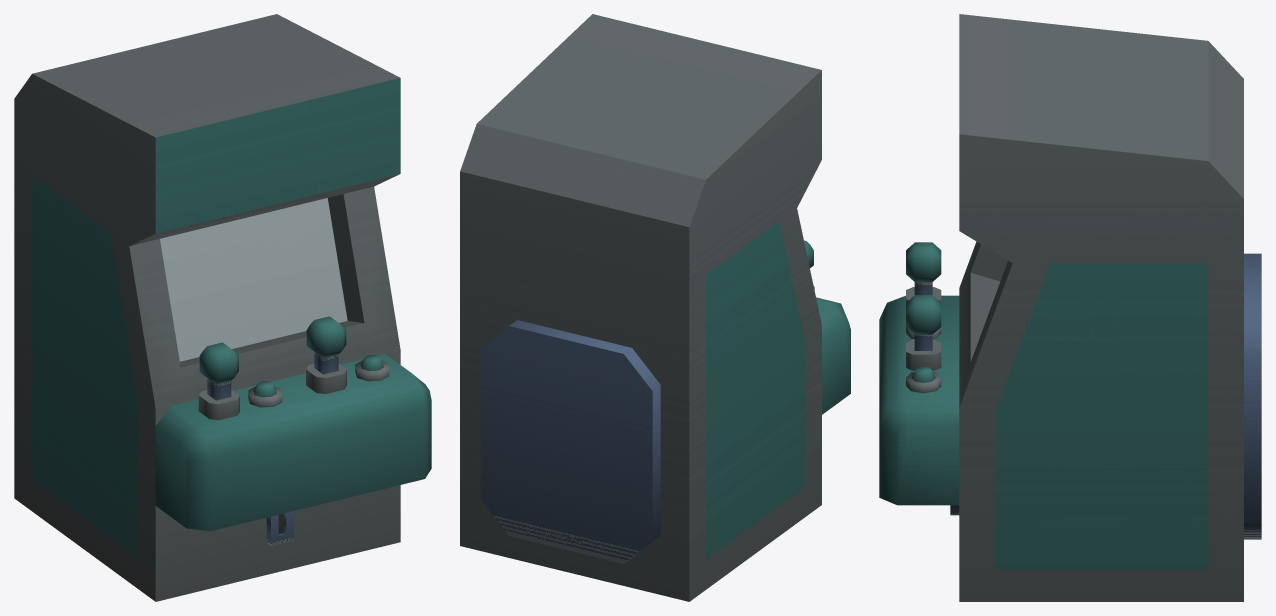
The model's file is mini-arcade__arcade-machine.glb.
The picture shows the model from 3 angles, left to right: view 1: azimuth 30°, elevation 25°; view 2: azimuth 150°, elevation 25°; view 3: azimuth 270°, elevation 25°; orthographic projection. The views are drawn at different scales.
Visible parts, largest first — view 1: arcade-machine; view 2: arcade-machine; view 3: arcade-machine.
Boxes of the visible parts, x1,y1,x2,y2 form: arcade-machine: (14, 14, 431, 601); arcade-machine: (460, 14, 850, 601); arcade-machine: (879, 14, 1261, 601).
Bounding box in the file's own units: 3.37 × 6.1 × 4.52.
Materials: 1 (1 with a texture image).
